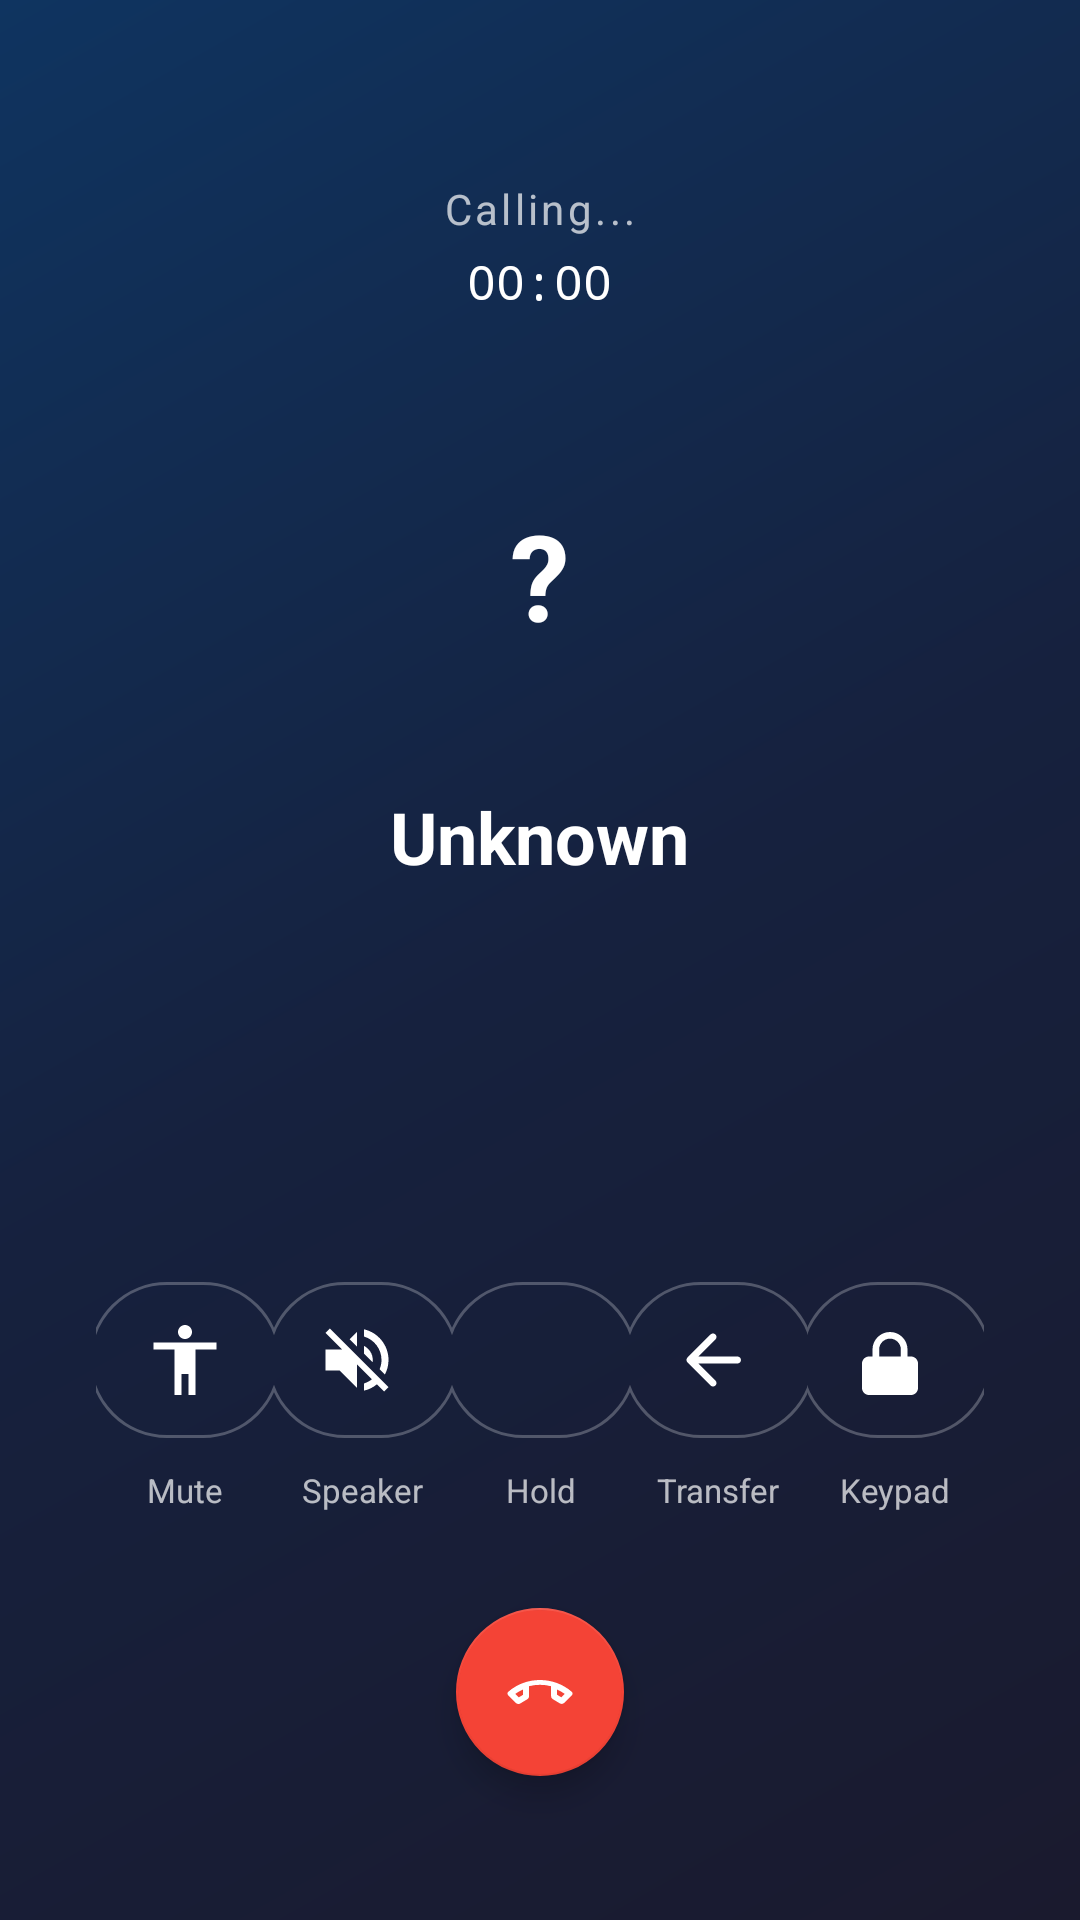

Icon bounding boxes for this 1080 x 1920 phone screenshot, format (x1, y1, x2, y2):
call decline: (456, 1608, 624, 1776)
